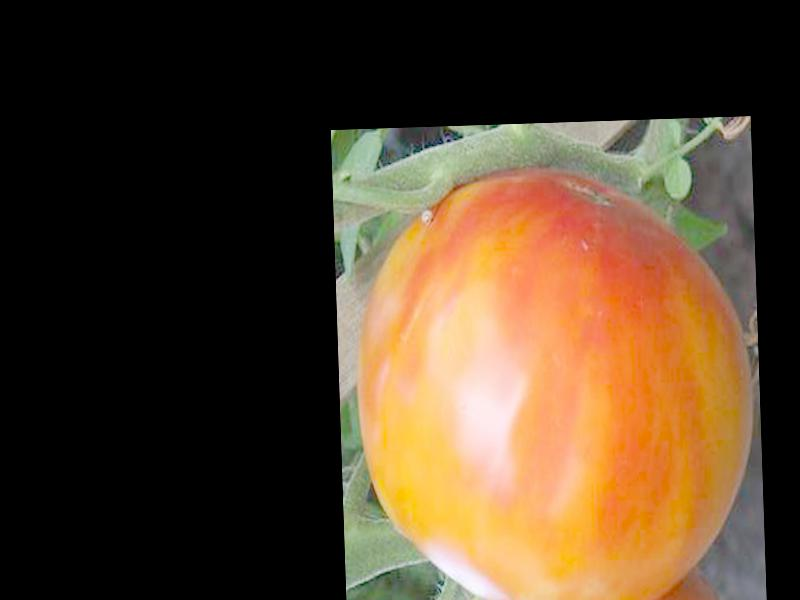Tomato: (351, 164, 758, 600)
